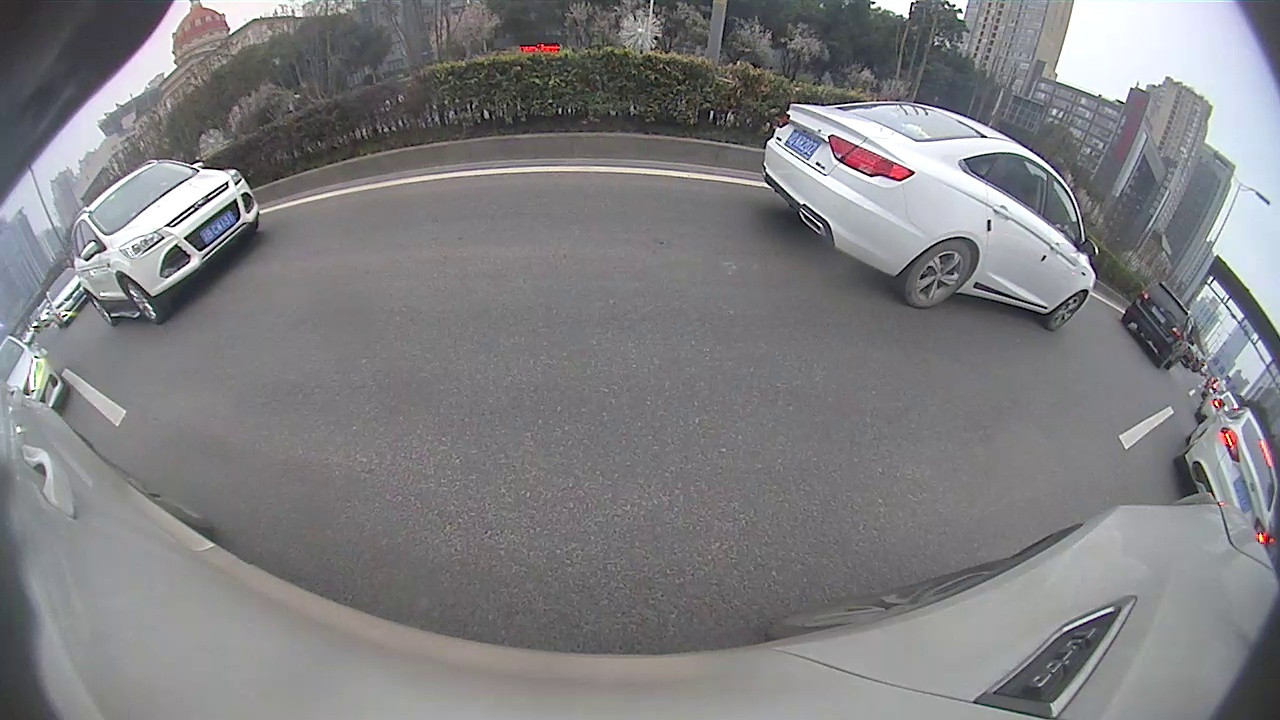car: (761, 100, 1097, 335), (69, 156, 262, 327), (1173, 397, 1278, 544), (1123, 280, 1198, 372), (2, 333, 70, 411)
front: (122, 277, 163, 325), (1046, 289, 1088, 334)
rear: (905, 238, 973, 309), (89, 294, 114, 327)
